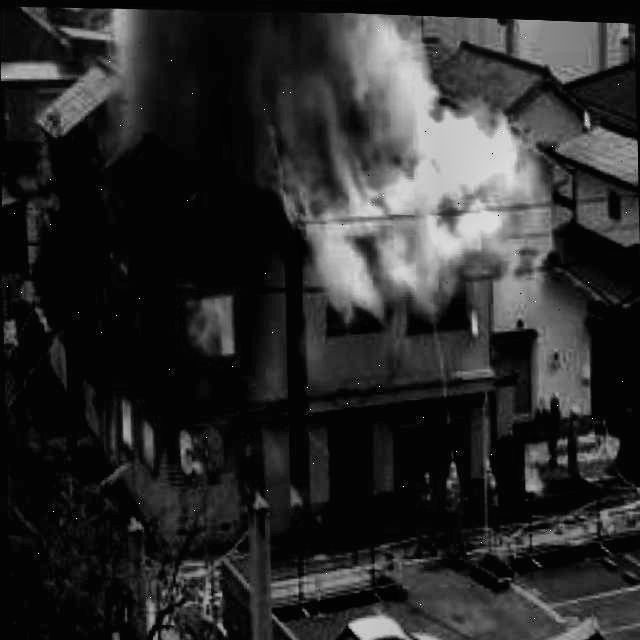Fire: (78, 224, 315, 539)
Smoke: (266, 8, 558, 307), (109, 4, 273, 201)
